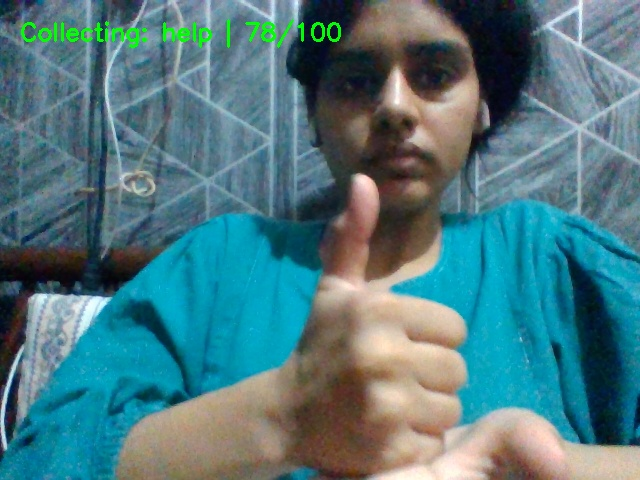help: (238, 167, 574, 480)
